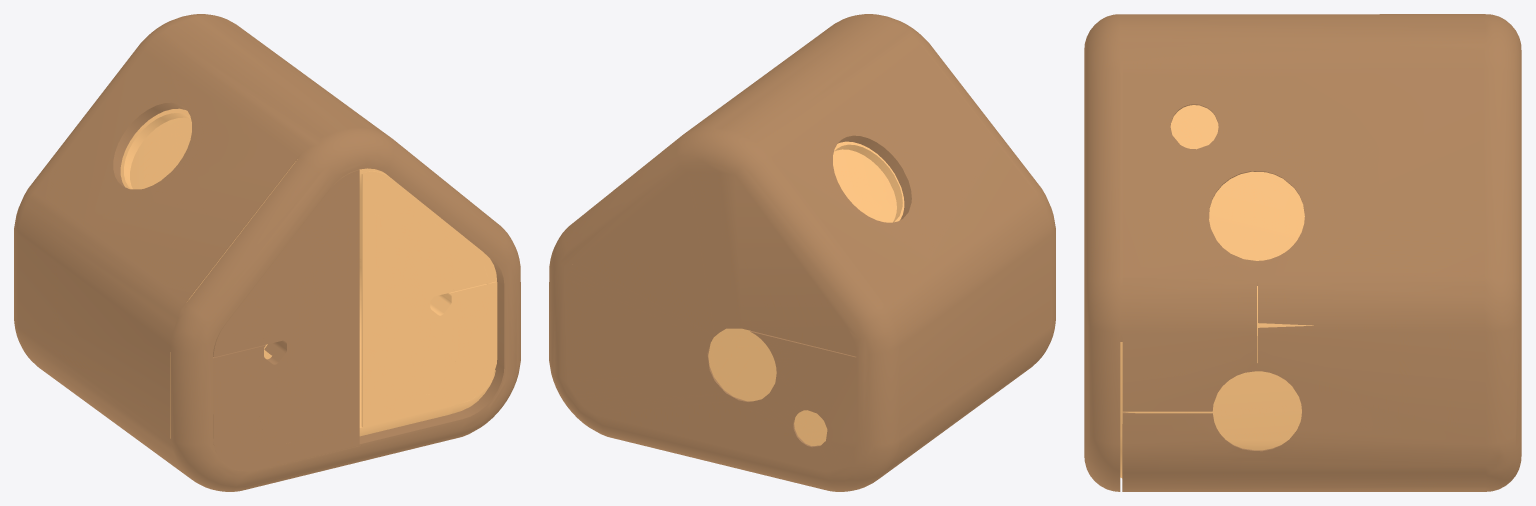
File: Homie_Jath.glb
3 renders of one model, left to right at view 1: azimuth 30°, elevation 25°; view 2: azimuth 150°, elevation 25°; view 3: azimuth 270°, elevation 25°, orthographic. The views are drawn at different scales.
Visible parts, largest first — view 1: connector, connector.001; view 2: connector, connector.001; view 3: connector, connector.001.
Part boxes in pixels (x1,y1,x2,y2): connector: (14,14,520,491); connector.001: (120,108,497,438); connector: (549,14,1055,491); connector.001: (708,141,904,445); connector: (1084,14,1521,491); connector.001: (1120,105,1313,478).
Size of the model in its own units: 0.5144 by 0.4718 by 0.4685.
Materials: 2 (2 with a texture image).
